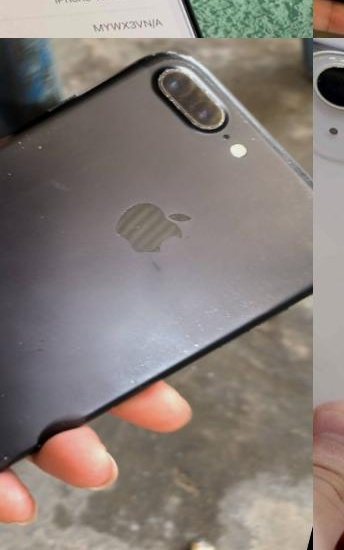scratch: (148, 63, 235, 135), (159, 46, 203, 67), (135, 351, 158, 371), (230, 108, 251, 124), (193, 318, 209, 334), (204, 303, 218, 316), (11, 335, 24, 346), (248, 133, 262, 143), (171, 314, 183, 325), (221, 309, 233, 319), (126, 375, 138, 385), (20, 411, 32, 421), (190, 338, 203, 347), (222, 292, 233, 302), (130, 201, 141, 210), (0, 388, 7, 399), (1, 452, 9, 461), (183, 330, 191, 338), (180, 347, 189, 354), (121, 208, 127, 218), (216, 323, 224, 330), (23, 133, 30, 139), (44, 130, 50, 136), (117, 233, 123, 239), (150, 52, 155, 57)
